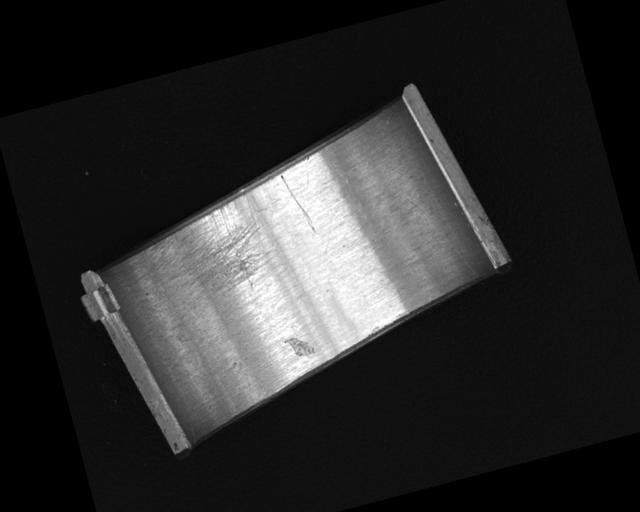bruise: (283, 333, 316, 360)
nick: (407, 187, 478, 290), (279, 168, 317, 236)
scratch: (137, 186, 280, 313)
